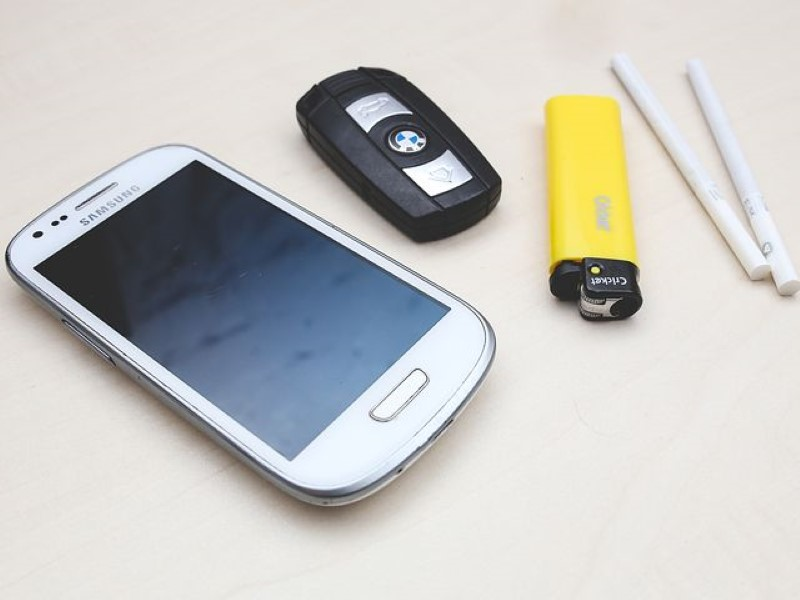carkey: (291, 60, 504, 247)
